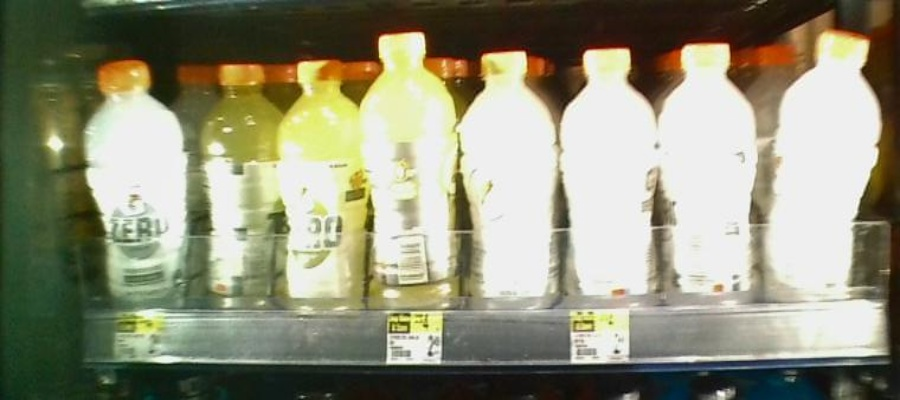bottle: (777, 25, 880, 301), (83, 56, 192, 316), (663, 29, 761, 310), (365, 27, 457, 312), (564, 36, 656, 310), (461, 46, 559, 303), (278, 48, 361, 315), (197, 57, 276, 312)
